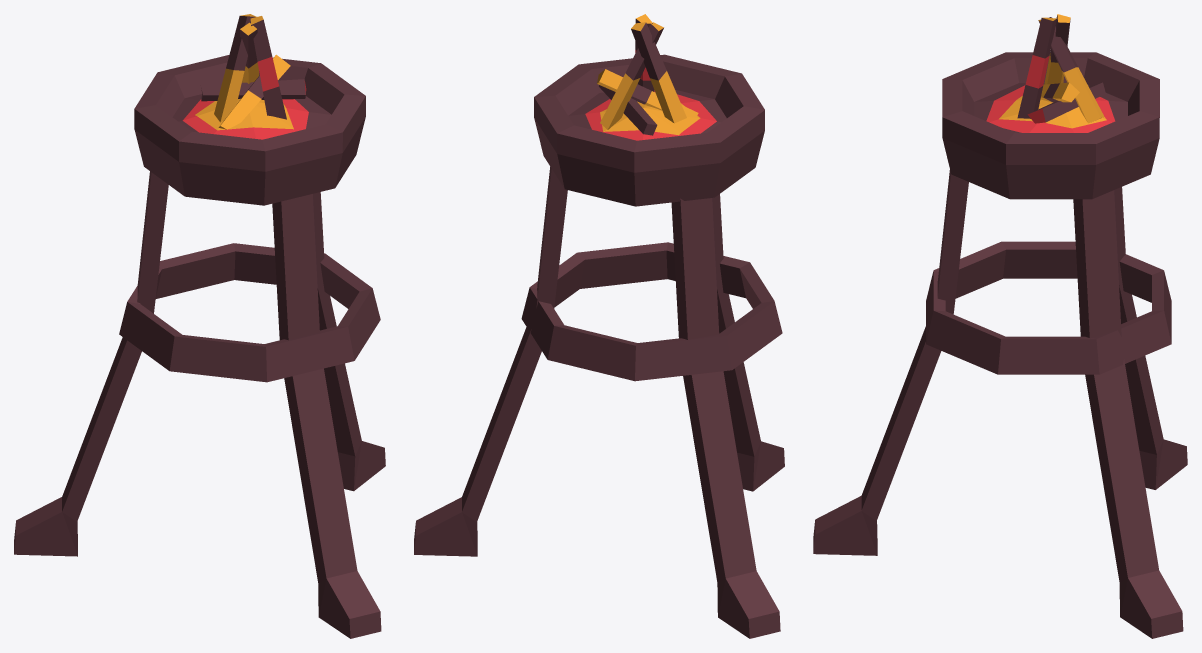
The model's file is SM_Lantern_Standing_Empire.fbx.
3 views of the same model, side by side, from view 1: azimuth 30°, elevation 25°; view 2: azimuth 150°, elevation 25°; view 3: azimuth 270°, elevation 25° (orthographic).
Visible parts, largest first — view 1: SM_Lantern_Standing_Empire; view 2: SM_Lantern_Standing_Empire; view 3: SM_Lantern_Standing_Empire.
Part boxes in pixels (left/top/right/bottom): SM_Lantern_Standing_Empire: left=14, top=14, right=385, bottom=638; SM_Lantern_Standing_Empire: left=414, top=14, right=784, bottom=638; SM_Lantern_Standing_Empire: left=813, top=14, right=1187, bottom=638.
Size of the model in its own units: 0.8543 by 1.17 by 0.7442.
